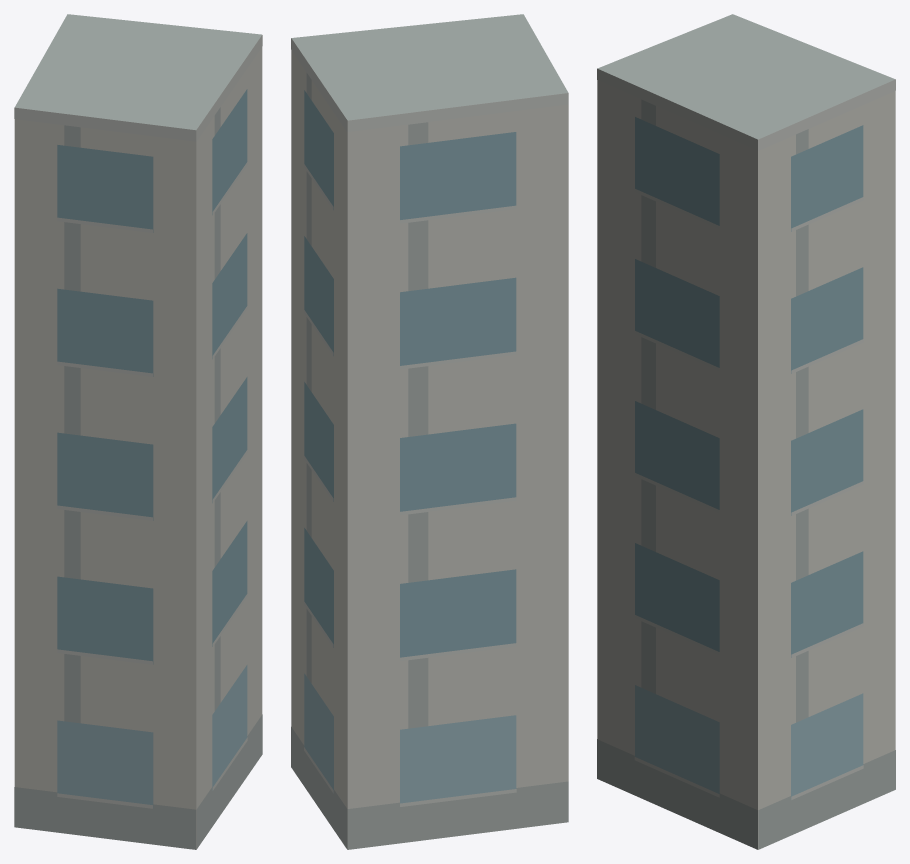
The model's file is survey-upis-32783502.glb.
3 renders of one model, left to right at view 1: azimuth 30°, elevation 25°; view 2: azimuth 150°, elevation 25°; view 3: azimuth 270°, elevation 25°, orthographic. The views are drawn at different scales.
Visible parts, largest first — view 1: survey-upis-32783502.tmp; view 2: survey-upis-32783502.tmp; view 3: survey-upis-32783502.tmp.
Boxes of the visible parts, x1,y1,x2,y2 form: survey-upis-32783502.tmp: [14, 14, 262, 849]; survey-upis-32783502.tmp: [291, 14, 568, 849]; survey-upis-32783502.tmp: [597, 14, 895, 849].
Size of the model in its own units: 5.79 by 15.25 by 5.82.
